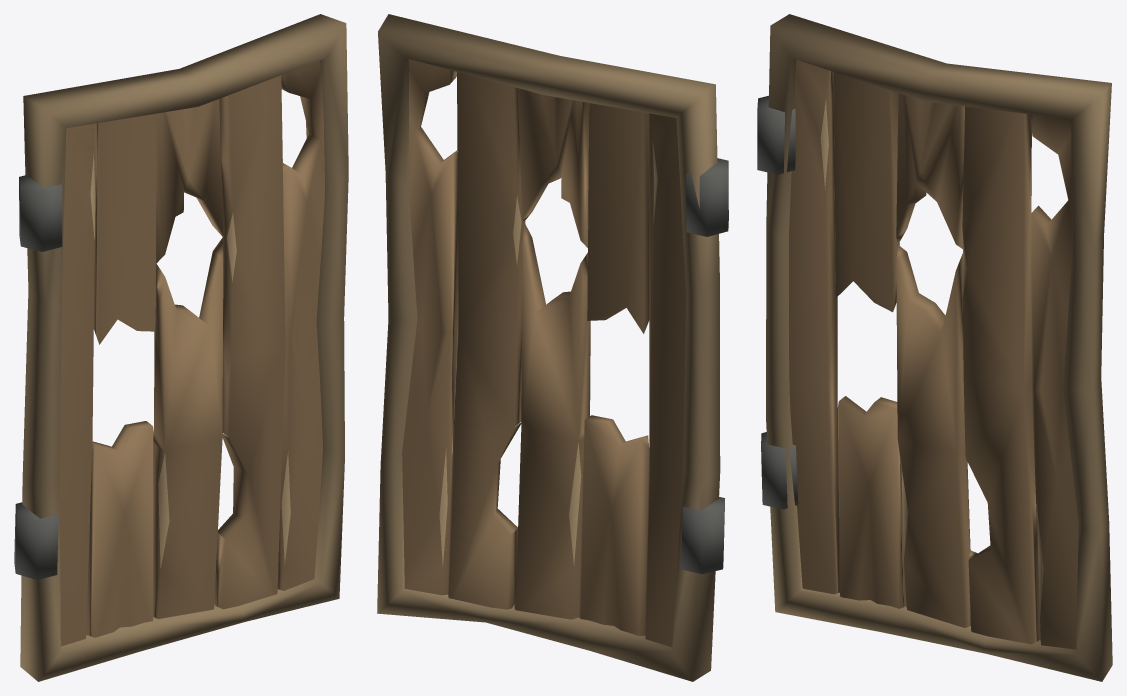
The model's file is rpgpp_av_door_02a.gltf.
The picture shows the model from 3 angles, left to right: view 1: azimuth 30°, elevation 25°; view 2: azimuth 150°, elevation 25°; view 3: azimuth 330°, elevation 25°; orthographic projection. The views are drawn at different scales.
Parts seen in each view (by area): view 1: rpgpp_av_door_02a; view 2: rpgpp_av_door_02a; view 3: rpgpp_av_door_02a.
Boxes of the visible parts, x1=… form: rpgpp_av_door_02a: x1=14, y1=14, x2=348, y2=681; rpgpp_av_door_02a: x1=377, y1=14, x2=728, y2=681; rpgpp_av_door_02a: x1=757, y1=14, x2=1112, y2=681.
Size of the model in its own units: 0.0141 by 0.0235 by 0.0028.
Materials: 1 (1 with a texture image).
